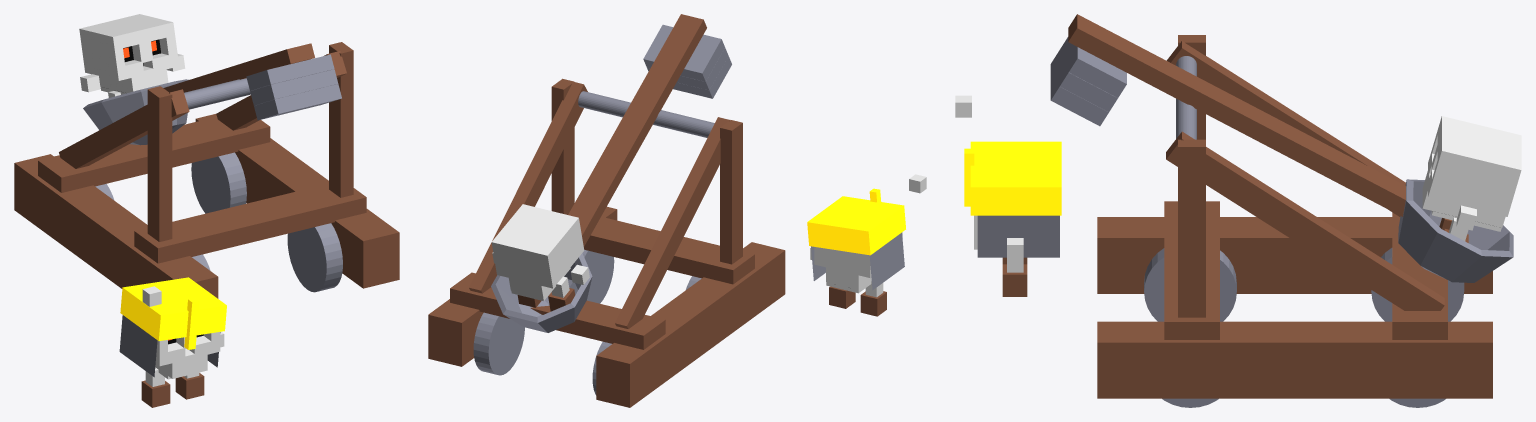
The model's file is Artillery2.fbx.
3 renders of one model, left to right at view 1: azimuth 30°, elevation 25°; view 2: azimuth 150°, elevation 25°; view 3: azimuth 270°, elevation 25°, orthographic. The views are drawn at different scales.
Visible parts, largest first — view 1: Cube.033, Cube.034, Cube.032, Cube.035, Cube.161, Cube.173, Cube.036, Cube.038, Cylinder.002, Cube.037, Cylinder.003, Cube.040 (+11 smaller); view 2: Cube.033, Cube.040, Cube.161, Cube.037, Cube.034, Cube.173, Cube.035, Cube.039, Cube.036, Cube.032, Sphere.001, Cylinder.003 (+10 smaller); view 3: Cube.032, Cube.033, Cube.040, Cube.039, Cube.161, Cube.173, Sphere.001, Cube.038, Cube.034, Cube.037, Plane.052, Cube.035 (+8 smaller).
Part boxes in pixels (left/top/right/bottom): Cube.033: left=14, top=154, right=218, bottom=298; Cube.034: left=134, top=183, right=366, bottom=263; Cube.032: left=195, top=114, right=399, bottom=288; Cube.035: left=38, top=117, right=270, bottom=192; Cube.161: left=79, top=14, right=179, bottom=92; Cube.173: left=120, top=277, right=226, bottom=340; Cube.036: left=147, top=86, right=172, bottom=241; Cube.038: left=329, top=42, right=353, bottom=197; Cylinder.002: left=287, top=223, right=342, bottom=292; Cube.037: left=59, top=89, right=189, bottom=168; Cylinder.003: left=191, top=152, right=246, bottom=213; Cube.040: left=163, top=43, right=314, bottom=92; Cube.033: left=596, top=242, right=785, bottom=407; Cube.040: left=568, top=14, right=706, bottom=246; Cube.161: left=491, top=204, right=584, bottom=298; Cube.037: left=615, top=117, right=730, bottom=328; Cube.034: left=584, top=216, right=754, bottom=284; Cube.173: left=807, top=196, right=905, bottom=255; Cube.035: left=450, top=272, right=665, bottom=349; Cube.039: left=469, top=81, right=587, bottom=293; Cube.036: left=720, top=120, right=742, bottom=264; Cube.032: left=428, top=206, right=617, bottom=366; Sphere.001: left=491, top=253, right=592, bottom=332; Cylinder.003: left=473, top=312, right=524, bottom=375; Cube.032: left=1097, top=321, right=1492, bottom=398; Cube.033: left=1097, top=217, right=1492, bottom=293; Cube.040: left=1068, top=14, right=1405, bottom=216; Cube.039: left=1166, top=131, right=1444, bottom=310; Cube.161: left=1422, top=116, right=1521, bottom=227; Cube.173: left=970, top=141, right=1061, bottom=215; Sphere.001: left=1398, top=179, right=1513, bottom=282; Cube.038: left=1178, top=139, right=1205, bottom=317; Cube.034: left=1164, top=201, right=1219, bottom=339; Cube.037: left=1166, top=41, right=1405, bottom=216; Plane.052: left=977, top=215, right=1059, bottom=257; Cube.035: left=1392, top=212, right=1447, bottom=339.
Bounding box in the file's own units: 821 × 747 × 1098.
